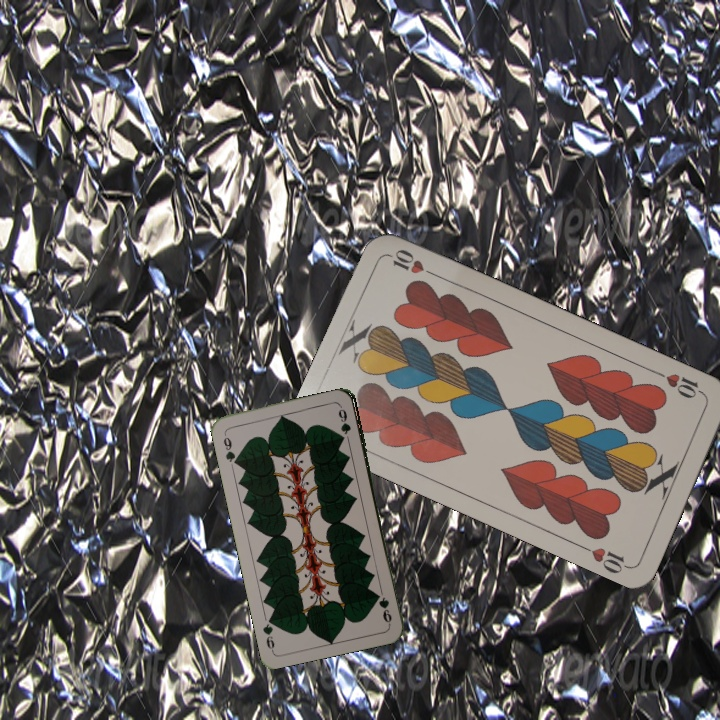G9: (219, 429, 241, 468), (375, 593, 394, 627)
H10: (652, 367, 708, 401)
